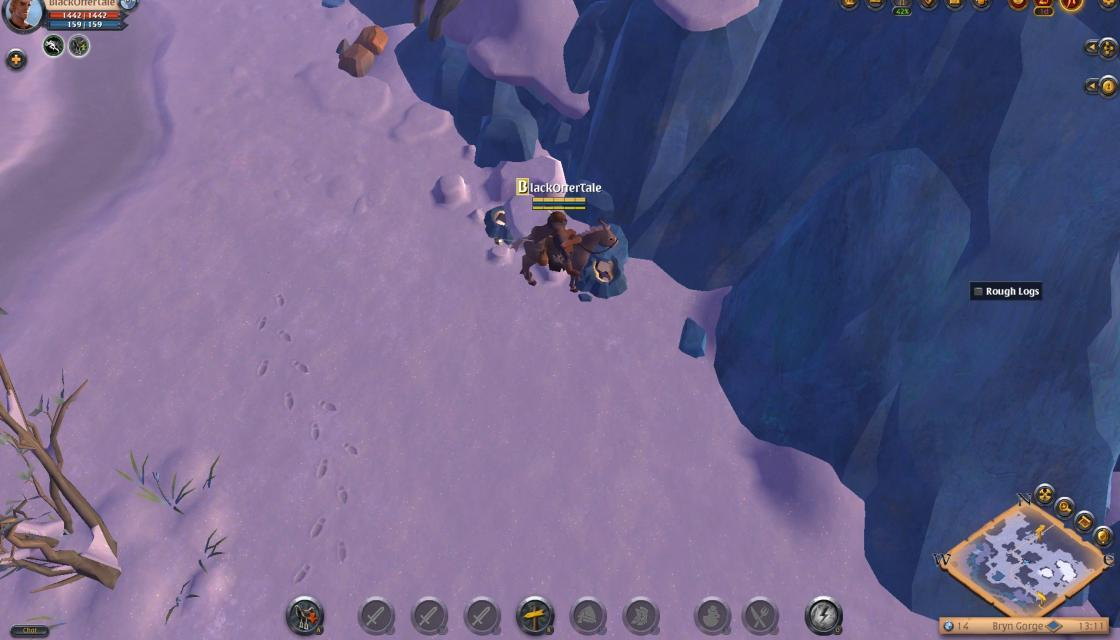limestone: (334, 19, 392, 74)
